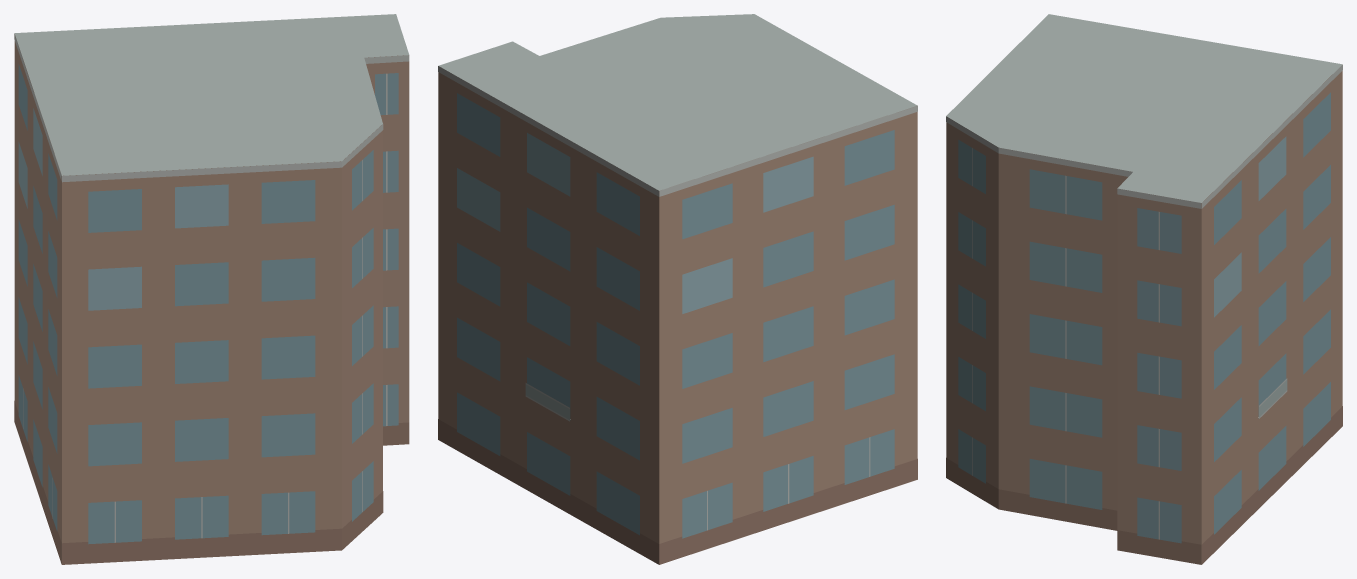
File: survey-upis-32541570.glb
3 renders of one model, left to right at view 1: azimuth 30°, elevation 25°; view 2: azimuth 150°, elevation 25°; view 3: azimuth 270°, elevation 25°, orthographic. The views are drawn at different scales.
Visible parts, largest first — view 1: survey-upis-32541570.tmp; view 2: survey-upis-32541570.tmp; view 3: survey-upis-32541570.tmp.
Part boxes in pixels (box(x1,y1,x2,y2)): survey-upis-32541570.tmp: box(14, 14, 409, 564); survey-upis-32541570.tmp: box(438, 14, 917, 564); survey-upis-32541570.tmp: box(946, 14, 1342, 564).
Bounding box in the file's own units: 16.7 × 14.9 × 14.81.
